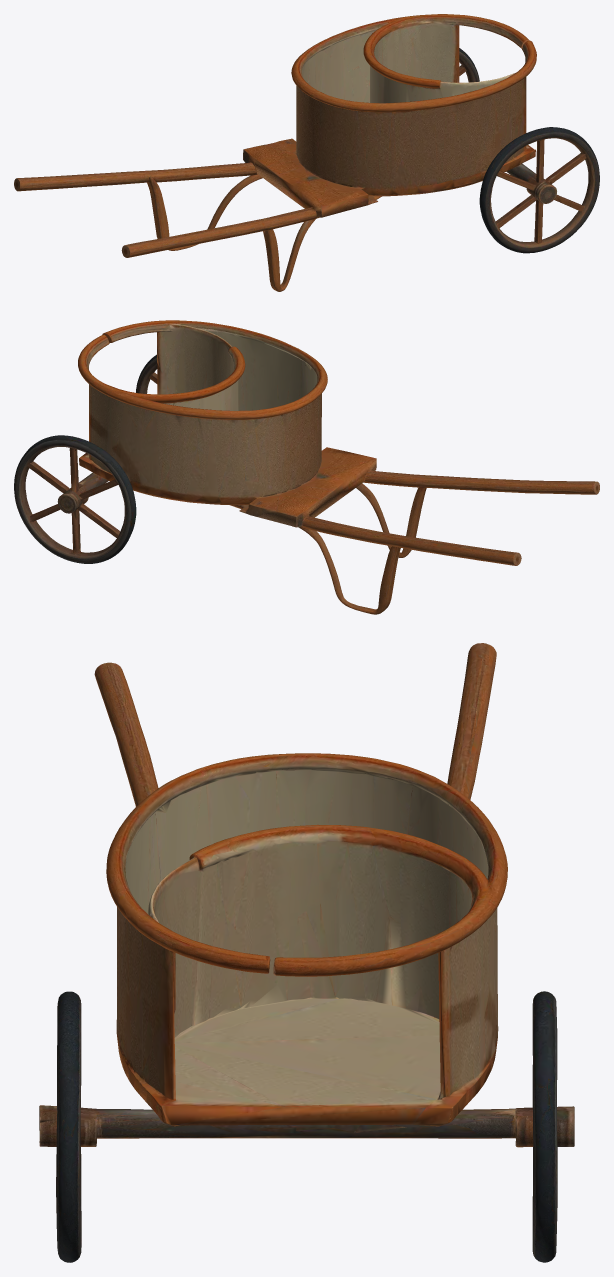
Rendered from chariot.glb.
3 renders of one model, top to bottom at view 1: azimuth 30°, elevation 25°; view 2: azimuth 150°, elevation 25°; view 3: azimuth 270°, elevation 25°, orthographic. The views are drawn at different scales.
Size of the model in its own units: 2 by 0.6749 by 0.9674.
Materials: 1 (1 with a texture image).
